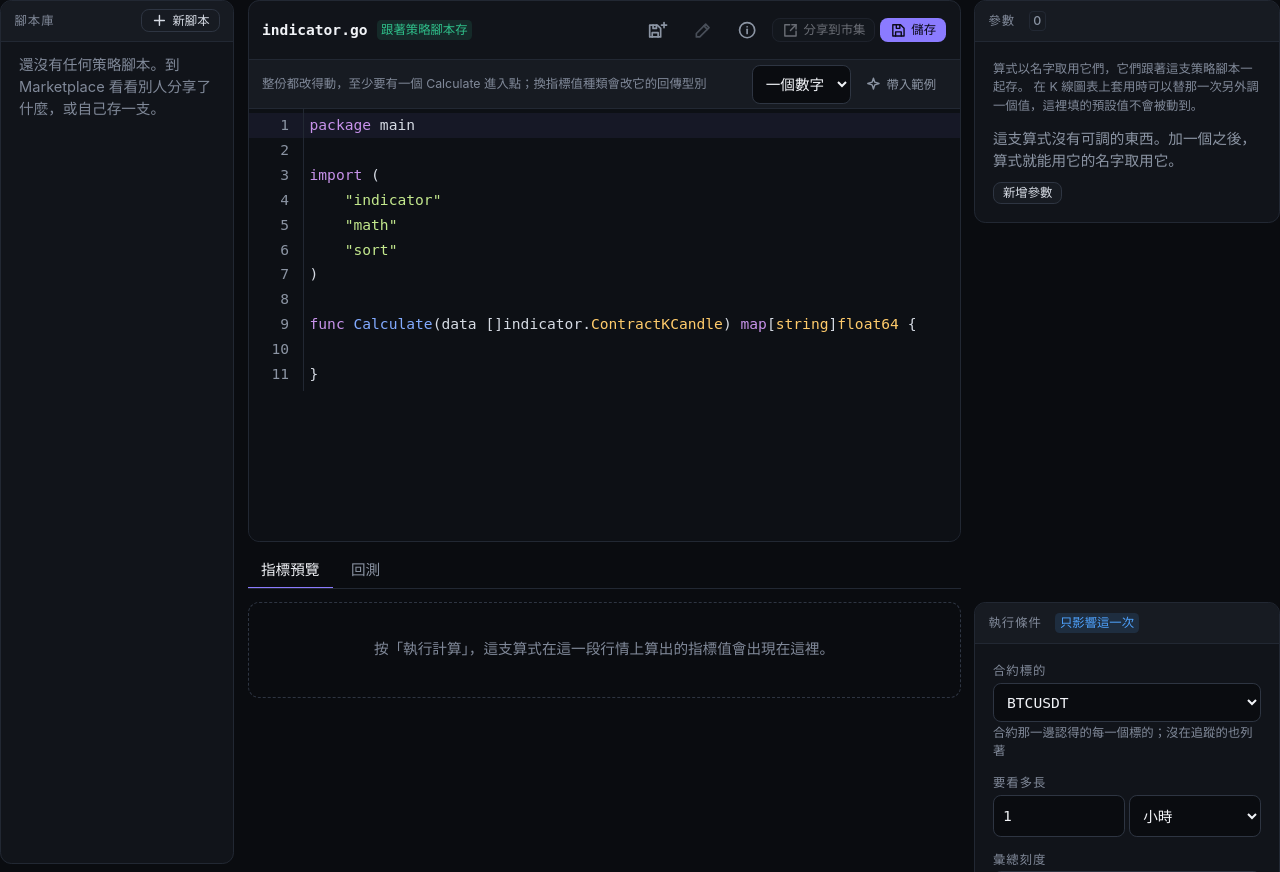
合約策略腳本的工作區 › 帶入的範例讀的是合約才有的東西
Click the button with test id "example-button" at (901, 84), box [855,73,946,96]
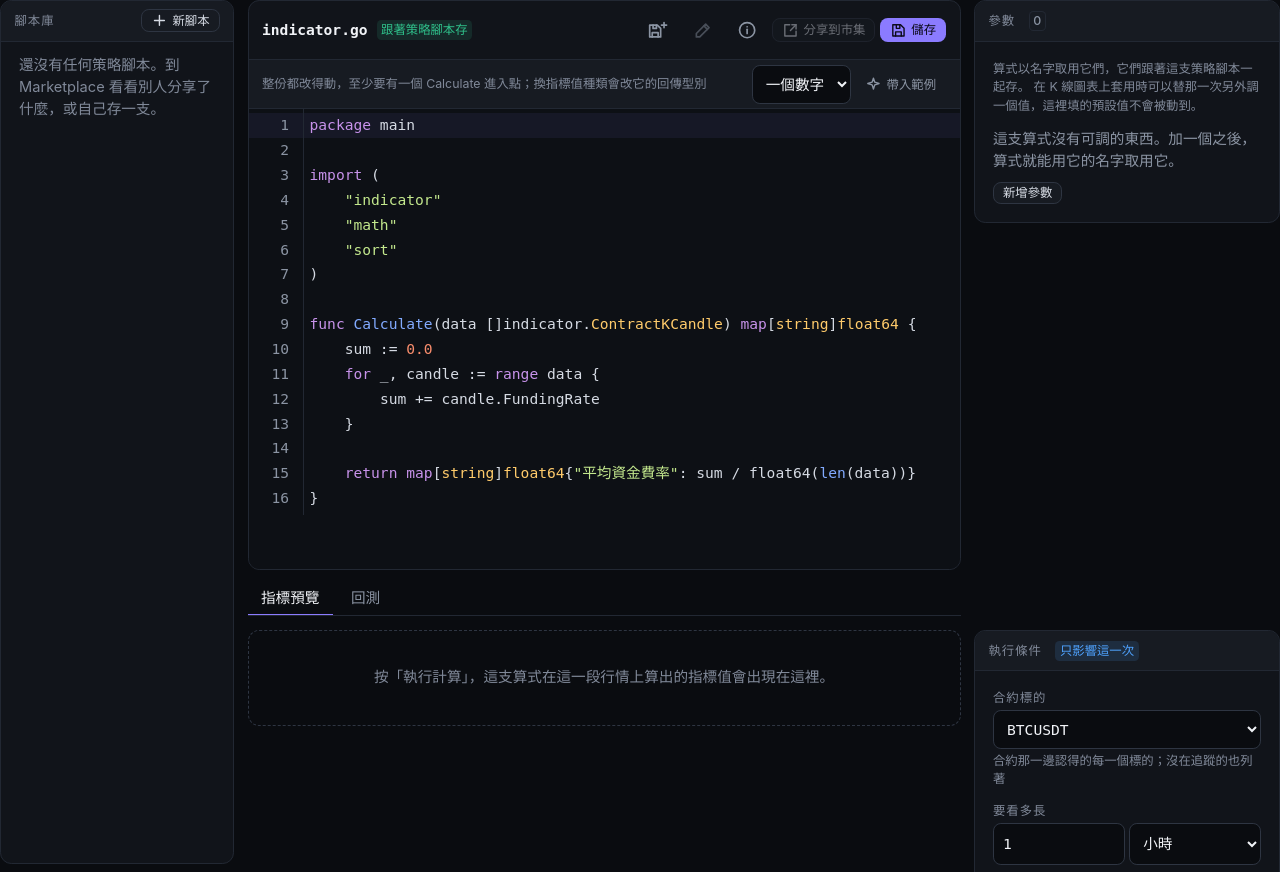
expect the field with class "cm-content" shows "[]indicator.ContractKCandle": met, box [304,109,960,515]
expect the field with class "cm-content" shows "FundingRate": met, box [304,109,960,515]
